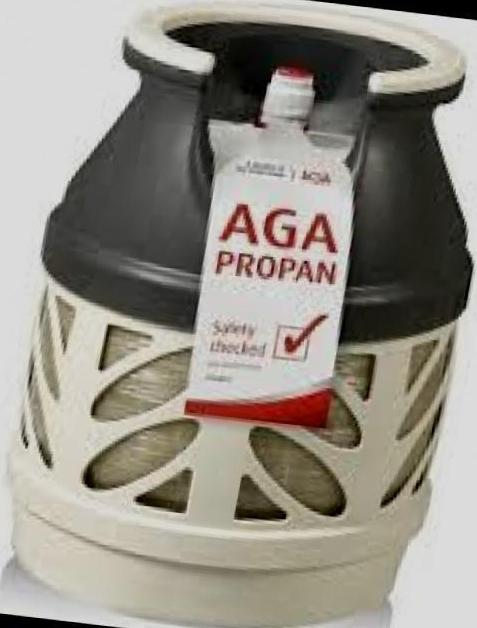cylinder: (1, 1, 477, 628)
